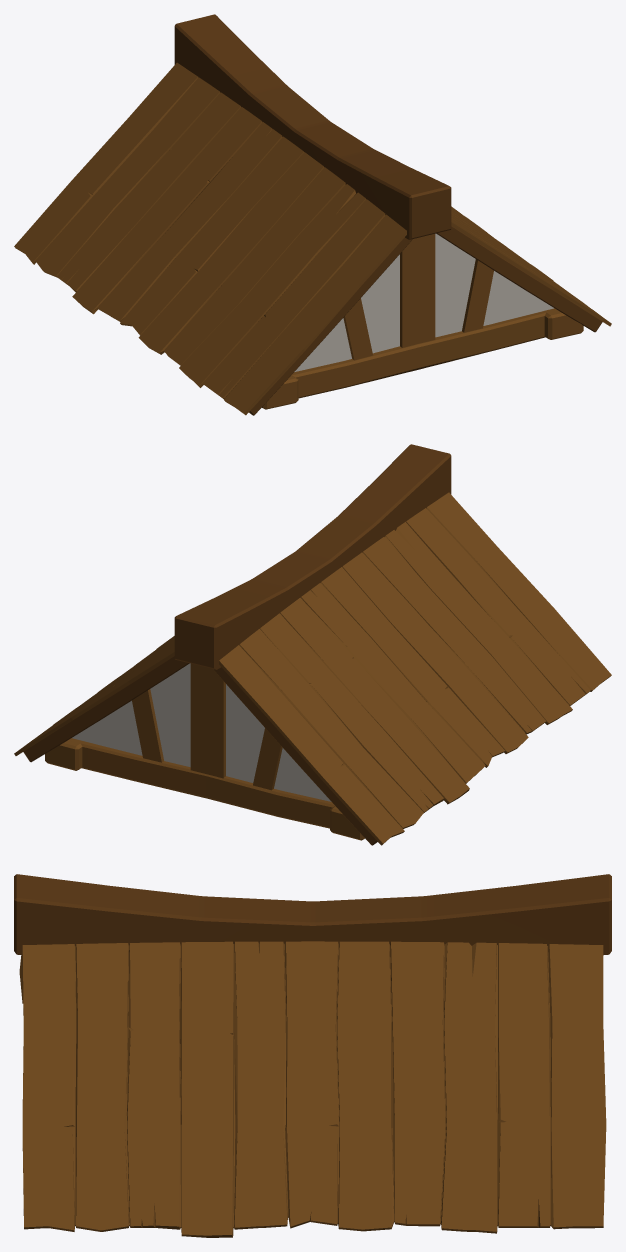
File: Roof_05.fbx
The picture shows the model from 3 angles, top to bottom: view 1: azimuth 30°, elevation 25°; view 2: azimuth 150°, elevation 25°; view 3: azimuth 270°, elevation 25°; orthographic projection. The views are drawn at different scales.
Parts seen in each view (by area): view 1: Roof_05; view 2: Roof_05; view 3: Roof_05.
Part boxes in pixels (x1,y1,x2,y2): Roof_05: [14, 14, 611, 415]; Roof_05: [14, 444, 611, 845]; Roof_05: [14, 874, 611, 1237].
Size of the model in its own units: 614 by 290 by 665.
